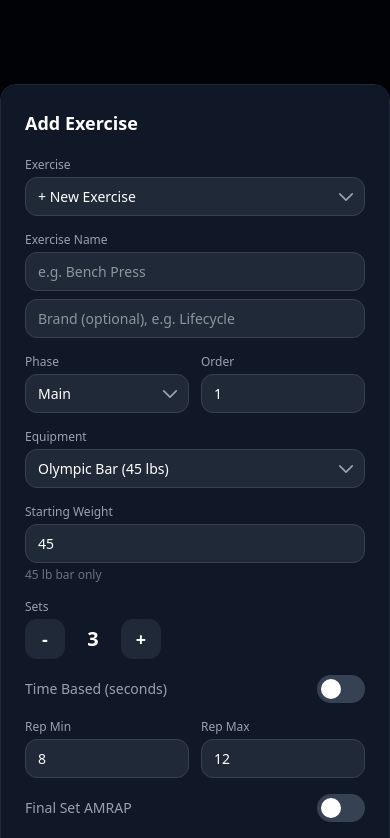
Test: ExerciseEditor › creating a new exercise › shows an error and blocks Save when barbell weight is below the bar minimum
Type "Squat" into the field with placeholder "e.g. Bench Press".
click(195, 272); type("Squat")  # box [25, 252, 365, 291]
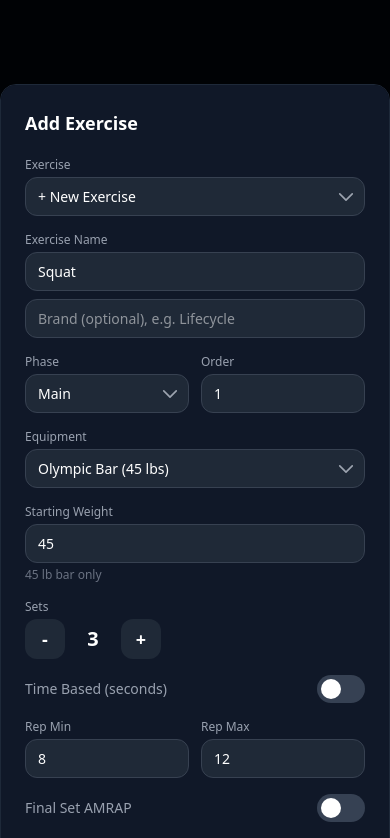
Replace the text in the number field below "Starting Weight" with "20" at (195, 544), box [25, 524, 365, 563]
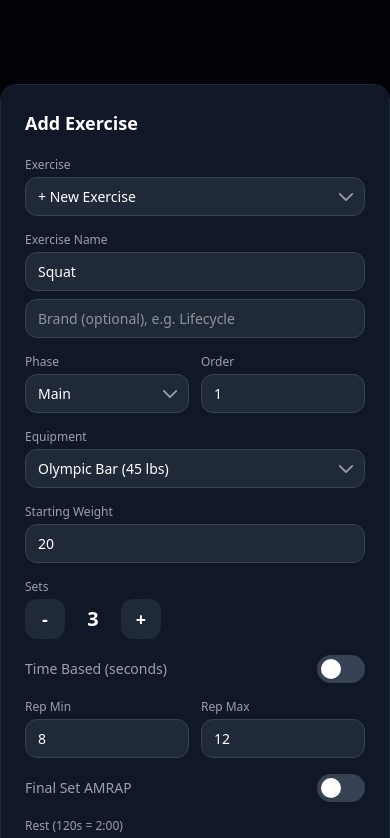
Leave the number field below "Starting Weight", box [25, 524, 365, 563]
(page scrolled)
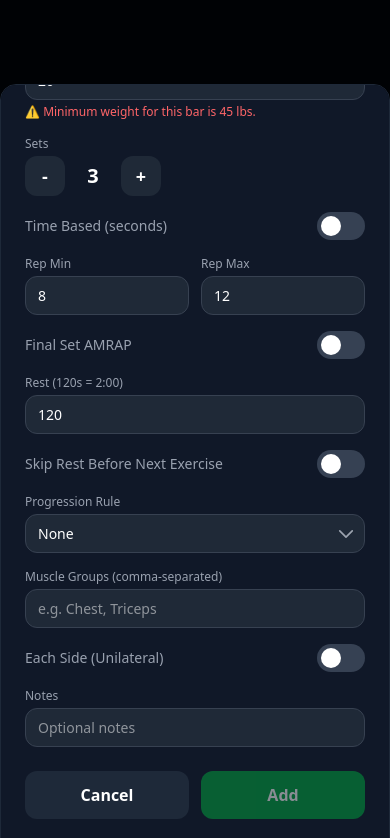
Expected: the button "Add" is disabled, [201, 771, 365, 819]
Expected: the text "⚠ Minimum weight for this bar is 45 lbs." is shown, [25, 103, 256, 120]
